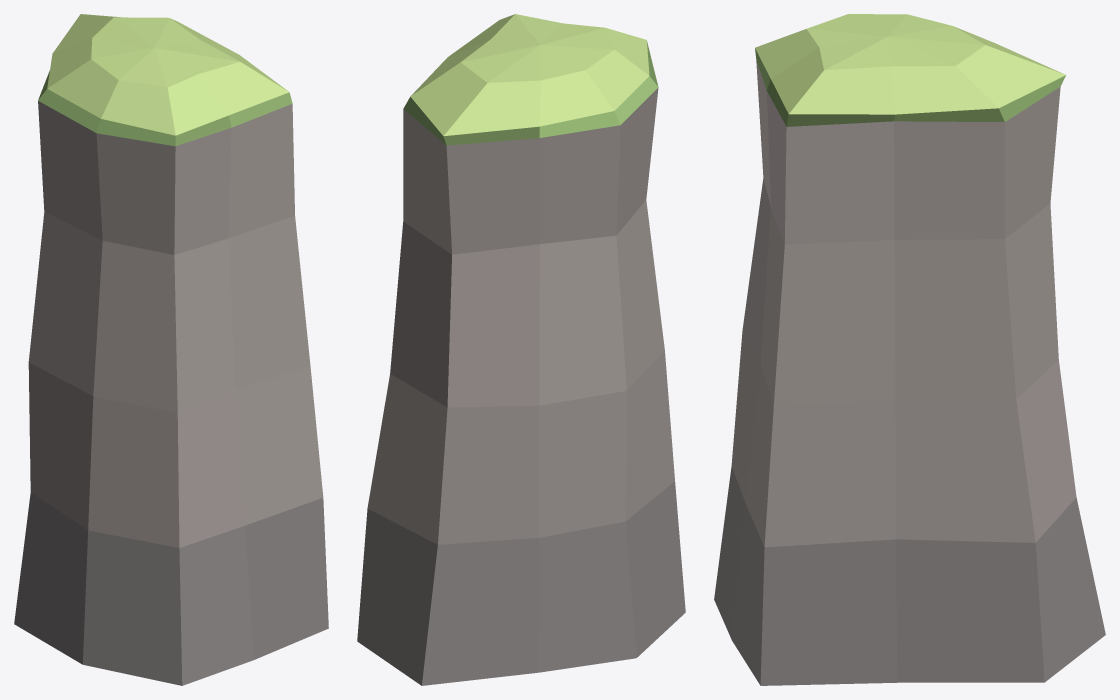
Rendered from Decor_SeaStack.fbx.
3 renders of one model, left to right at view 1: azimuth 30°, elevation 25°; view 2: azimuth 150°, elevation 25°; view 3: azimuth 270°, elevation 25°, orthographic. The views are drawn at different scales.
Visible parts, largest first — view 1: Decor_SeaStack; view 2: Decor_SeaStack; view 3: Decor_SeaStack.
Boxes of the visible parts, left/top/right/bottom form: Decor_SeaStack: left=14, top=14, right=328, bottom=685; Decor_SeaStack: left=357, top=14, right=685, bottom=685; Decor_SeaStack: left=714, top=14, right=1105, bottom=685.
Size of the model in its own units: 6.5 by 15.13 by 9.09.
